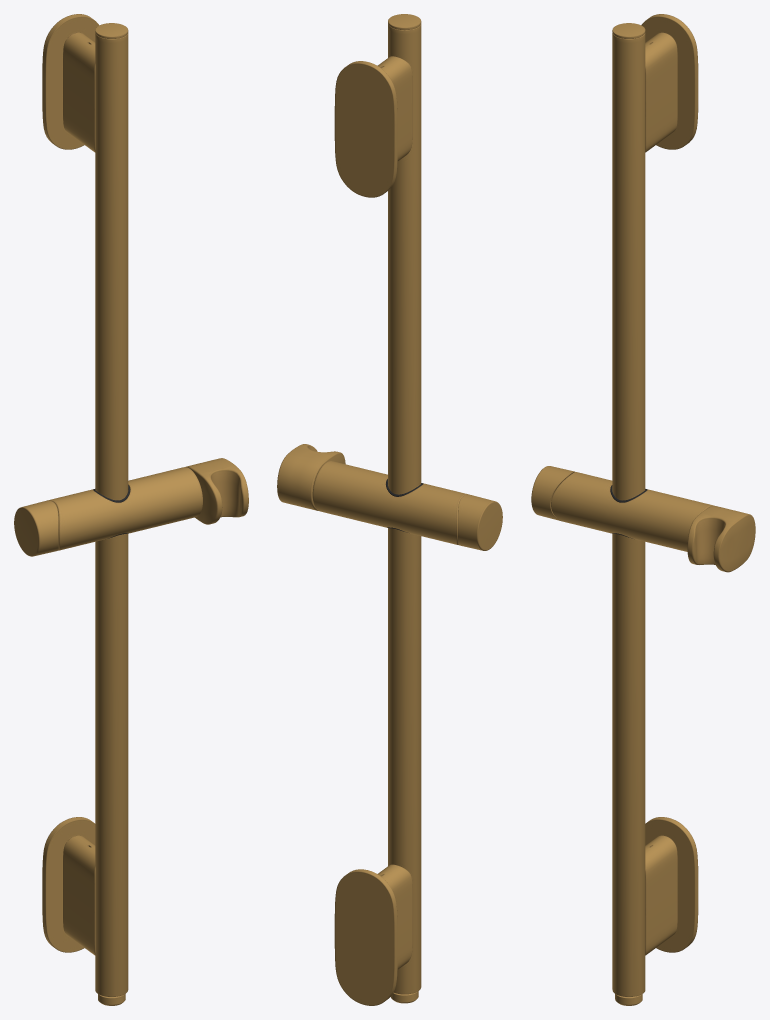
3 views of the same model, side by side, from view 1: azimuth 30°, elevation 25°; view 2: azimuth 150°, elevation 25°; view 3: azimuth 330°, elevation 25° (orthographic).
Visible parts, largest first — view 1: 26314; view 2: 26314; view 3: 26314.
Boxes of the visible parts, x1=… form: 26314: x1=14, y1=14, x2=248, y2=1005; 26314: x1=277, y1=14, x2=502, y2=1005; 26314: x1=531, y1=14, x2=755, y2=1005.
Bounding box in the file's own units: 0.2232 × 1.02 × 0.1213.
1 material, 1 textured.
